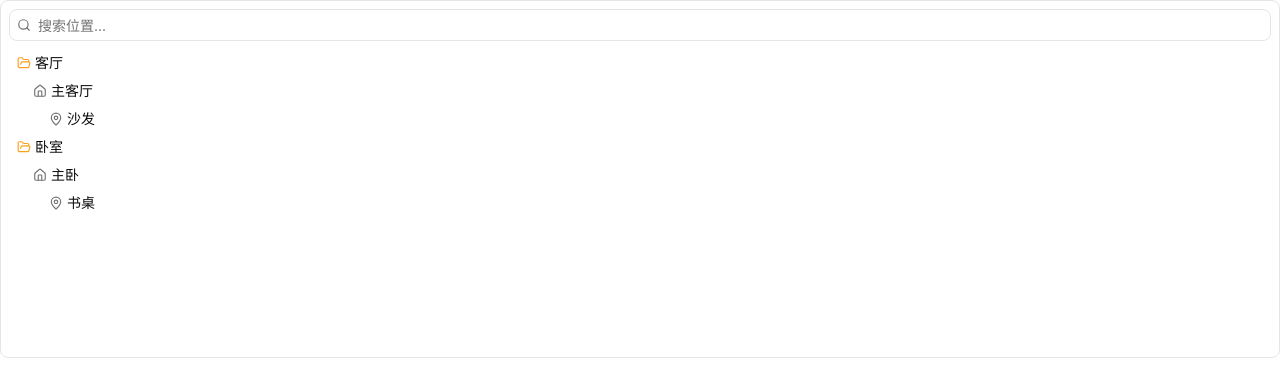
Scenario: LocationTreeSelect › 搜索功能 › 应该在没有匹配结果时显示提示
In the field with placeholder "搜索位置...": (640, 25) [9,9,1271,41], type "不存在的位置"
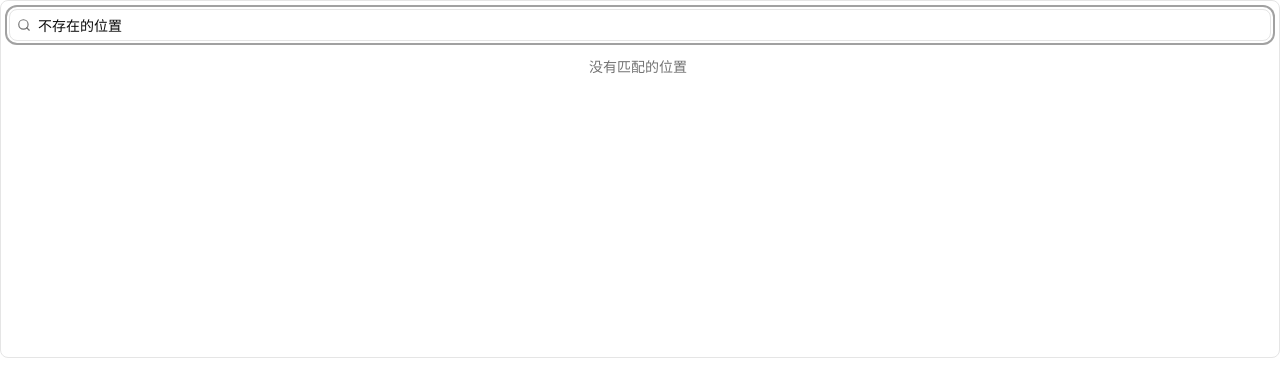
expect the text "没有匹配的位置" is shown: met, box [589,58,687,75]
